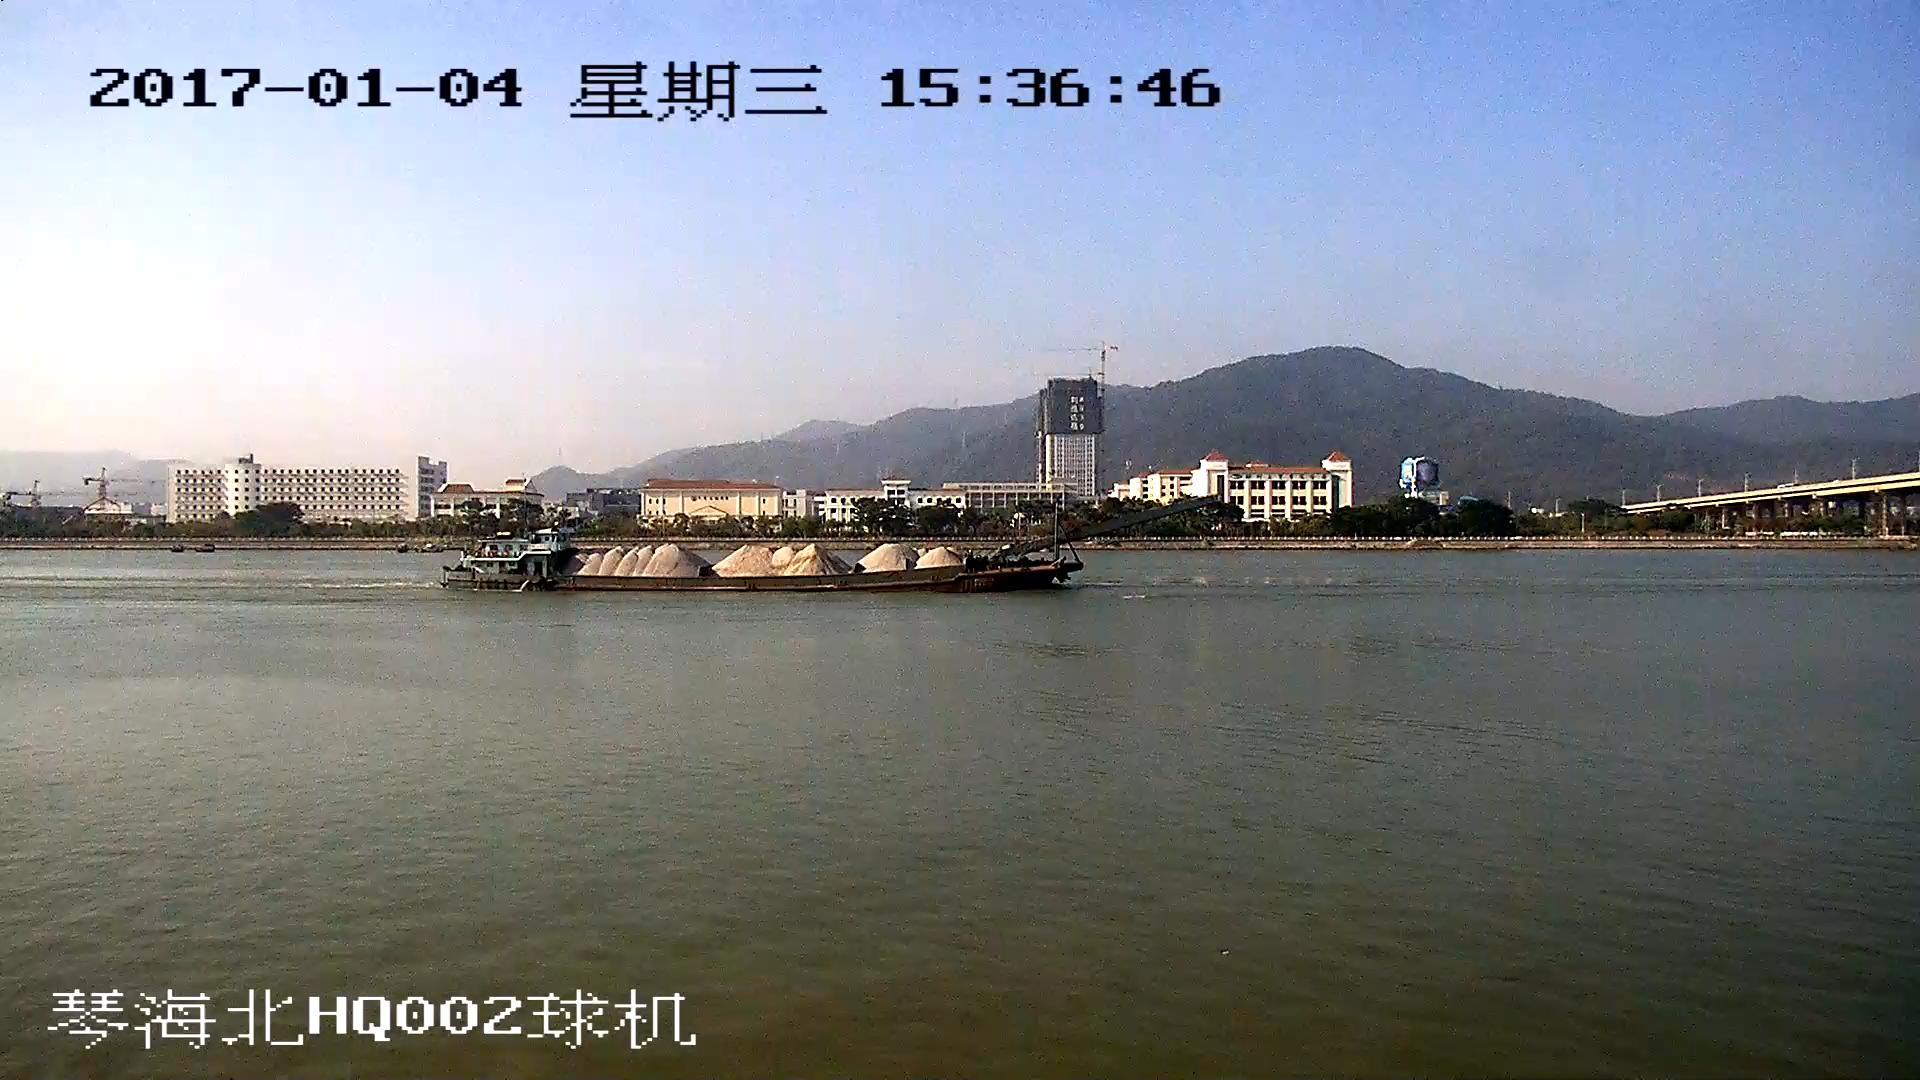ore carrier: (439, 499, 1215, 592)
